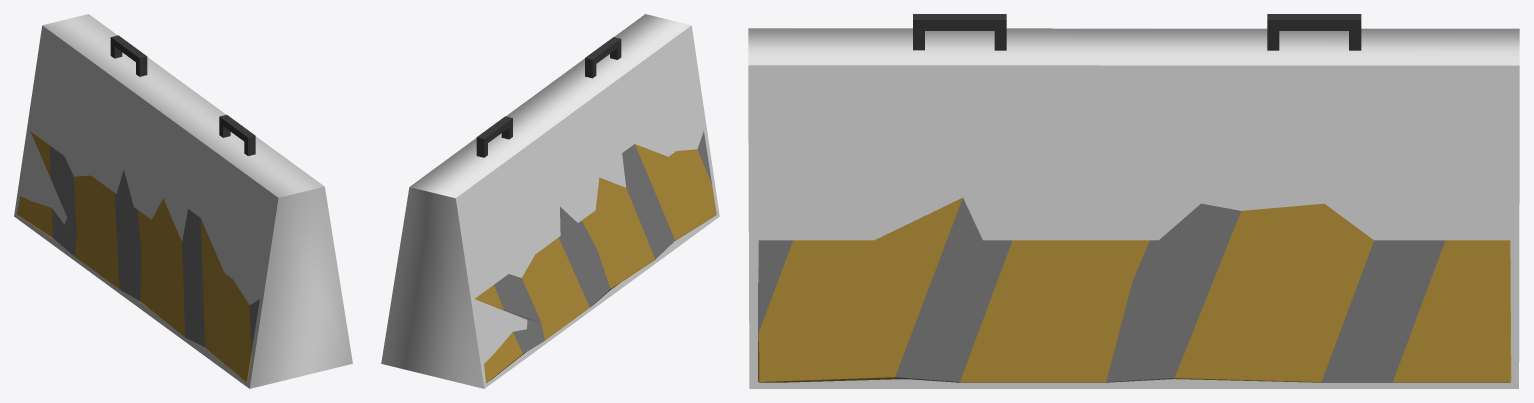
The model's file is model_road_barrier_01.fbx.
The picture shows the model from 3 angles, left to right: view 1: azimuth 30°, elevation 25°; view 2: azimuth 150°, elevation 25°; view 3: azimuth 270°, elevation 25°; orthographic projection. The views are drawn at different scales.
Visible parts, largest first — view 1: model_road_barrier_01_col, model_road_barrier_01; view 2: model_road_barrier_01_col, model_road_barrier_01; view 3: model_road_barrier_01_col, model_road_barrier_01.
Part boxes in pixels (left/top/right/bottom): model_road_barrier_01_col: left=14, top=14, right=352, bottom=388; model_road_barrier_01: left=17, top=35, right=259, bottom=382; model_road_barrier_01_col: left=381, top=14, right=719, bottom=388; model_road_barrier_01: left=475, top=37, right=716, bottom=382; model_road_barrier_01_col: left=748, top=28, right=1519, bottom=388; model_road_barrier_01: left=758, top=14, right=1511, bottom=382.
Size of the model in its own units: 59.09 by 111 by 234.
2 materials, 1 textured.
